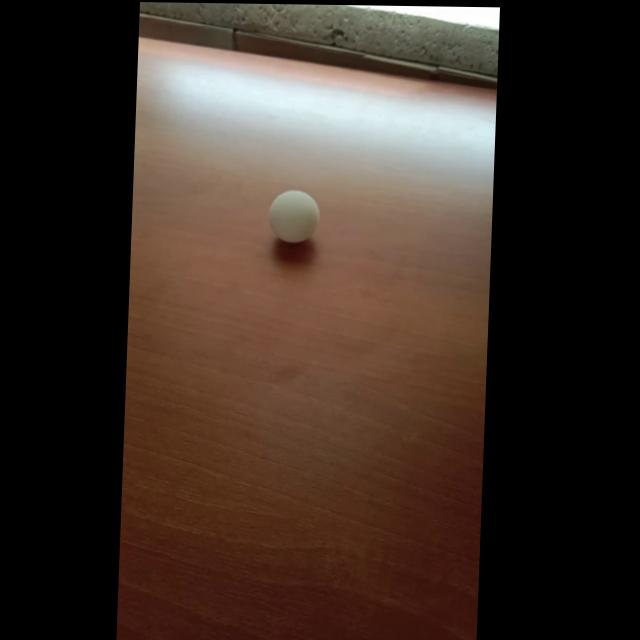white ball: (267, 189, 321, 244)
